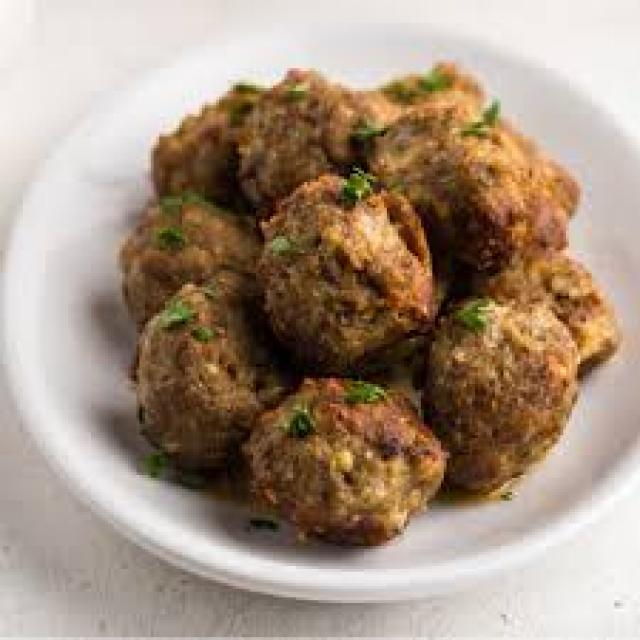meatball: (230, 367, 456, 558), (411, 288, 591, 519), (250, 162, 442, 366), (106, 281, 284, 467)
